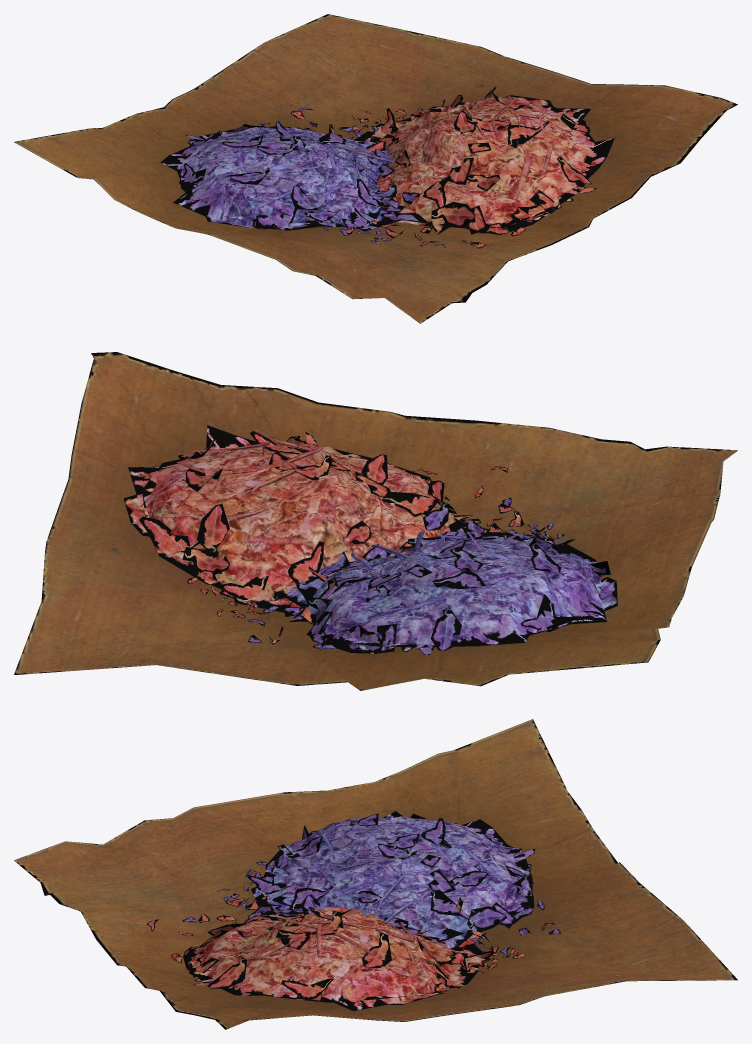
The model's file is 010_BlueRed_Herb.fbx.
3 renders of one model, top to bottom at view 1: azimuth 30°, elevation 25°; view 2: azimuth 150°, elevation 25°; view 3: azimuth 270°, elevation 25°, orthographic. The views are drawn at different scales.
Visible parts, largest first — view 1: LOD_1_Group_0_Sub_1__sm70_004_HerbsGG01A_Mat__Env_AlphaTest, LOD_1_Group_1_Sub_1__sm70_004_HerbsGG01A_Mat__Env_AlphaTest, LOD_1_Group_4_Sub_1__sm70_006_HerbsGB01A_B_Mat__Env_AlphaTes, LOD_1_Group_2_Sub_1__sm70_004_HerbsGG01A_mt, LOD_1_Group_3_Sub_1__sm70_006_HerbsGB01A_B_Mat__Env_AlphaTes; view 2: LOD_1_Group_0_Sub_1__sm70_004_HerbsGG01A_Mat__Env_AlphaTest, LOD_1_Group_1_Sub_1__sm70_004_HerbsGG01A_Mat__Env_AlphaTest, LOD_1_Group_4_Sub_1__sm70_006_HerbsGB01A_B_Mat__Env_AlphaTes, LOD_1_Group_2_Sub_1__sm70_004_HerbsGG01A_mt, LOD_1_Group_3_Sub_1__sm70_006_HerbsGB01A_B_Mat__Env_AlphaTes; view 3: LOD_1_Group_0_Sub_1__sm70_004_HerbsGG01A_Mat__Env_AlphaTest, LOD_1_Group_4_Sub_1__sm70_006_HerbsGB01A_B_Mat__Env_AlphaTes, LOD_1_Group_1_Sub_1__sm70_004_HerbsGG01A_Mat__Env_AlphaTest, LOD_1_Group_2_Sub_1__sm70_004_HerbsGG01A_mt, LOD_1_Group_3_Sub_1__sm70_006_HerbsGB01A_B_Mat__Env_AlphaTes.
Boxes of the visible parts, x1=… form: LOD_1_Group_0_Sub_1__sm70_004_HerbsGG01A_Mat__Env_AlphaTest: x1=14, y1=14, x2=737, y2=323; LOD_1_Group_1_Sub_1__sm70_004_HerbsGG01A_Mat__Env_AlphaTest: x1=290, y1=87, x2=614, y2=248; LOD_1_Group_4_Sub_1__sm70_006_HerbsGB01A_B_Mat__Env_AlphaTes: x1=160, y1=107, x2=445, y2=247; LOD_1_Group_2_Sub_1__sm70_004_HerbsGG01A_mt: x1=447, y1=99, x2=553, y2=191; LOD_1_Group_3_Sub_1__sm70_006_HerbsGB01A_B_Mat__Env_AlphaTes: x1=301, y1=145, x2=392, y2=174; LOD_1_Group_0_Sub_1__sm70_004_HerbsGG01A_Mat__Env_AlphaTest: x1=14, y1=352, x2=737, y2=690; LOD_1_Group_1_Sub_1__sm70_004_HerbsGG01A_Mat__Env_AlphaTest: x1=123, y1=425, x2=557, y2=644; LOD_1_Group_4_Sub_1__sm70_006_HerbsGB01A_B_Mat__Env_AlphaTes: x1=247, y1=497, x2=617, y2=654; LOD_1_Group_2_Sub_1__sm70_004_HerbsGG01A_mt: x1=204, y1=430, x2=322, y2=519; LOD_1_Group_3_Sub_1__sm70_006_HerbsGB01A_B_Mat__Env_AlphaTes: x1=351, y1=529, x2=482, y2=577; LOD_1_Group_0_Sub_1__sm70_004_HerbsGG01A_Mat__Env_AlphaTest: x1=14, y1=719, x2=737, y2=1029; LOD_1_Group_4_Sub_1__sm70_006_HerbsGB01A_B_Mat__Env_AlphaTes: x1=182, y1=811, x2=560, y2=955; LOD_1_Group_1_Sub_1__sm70_004_HerbsGG01A_Mat__Env_AlphaTest: x1=147, y1=873, x2=555, y2=1010; LOD_1_Group_2_Sub_1__sm70_004_HerbsGG01A_mt: x1=221, y1=919, x2=414, y2=961; LOD_1_Group_3_Sub_1__sm70_006_HerbsGB01A_B_Mat__Env_AlphaTes: x1=333, y1=850, x2=428, y2=922.
Size of the model in its own units: 0.2897 by 0.0336 by 0.2866.
